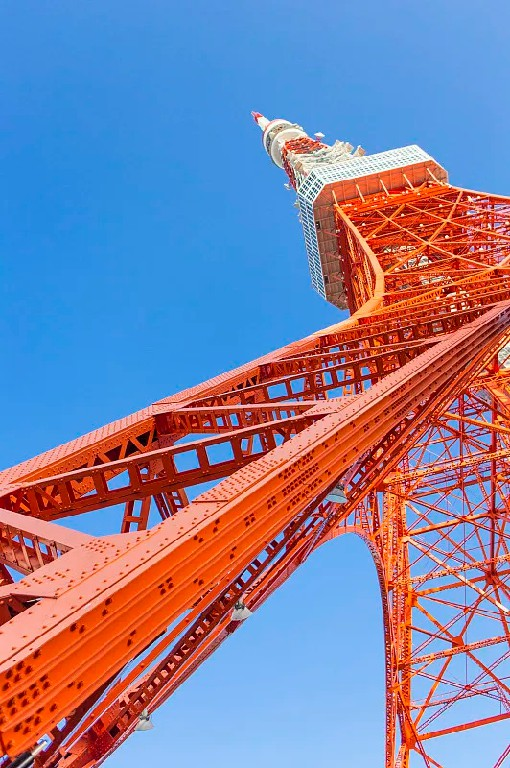Tokyo: (1, 109, 510, 768)
